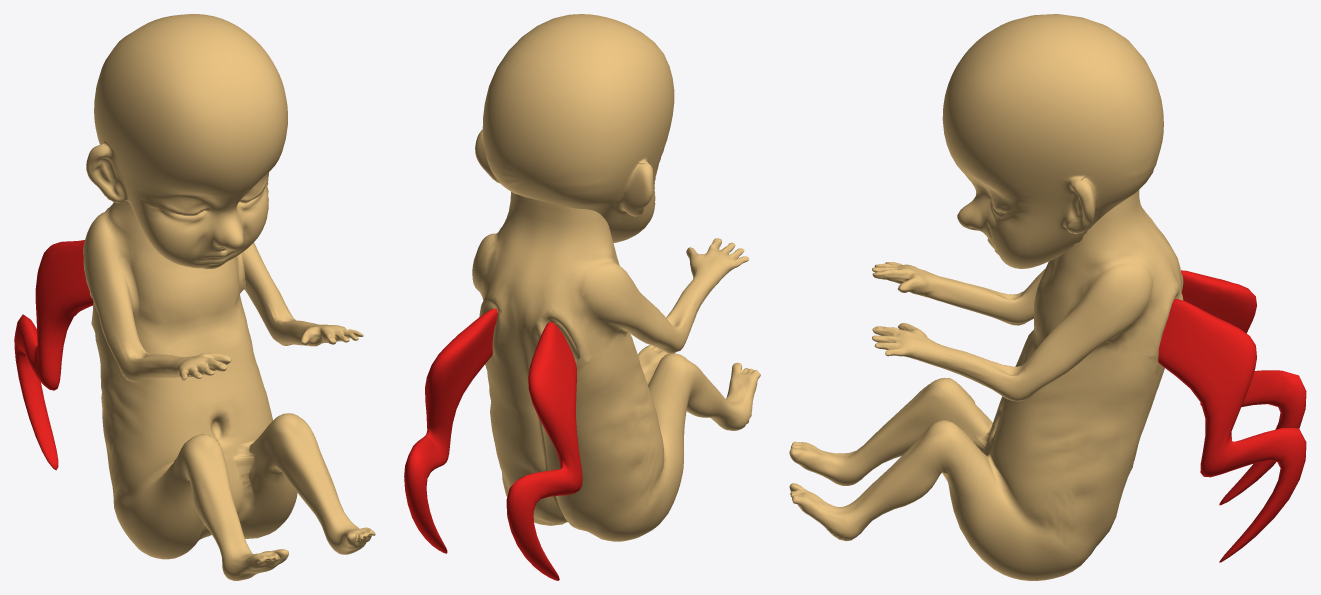
File: embrio 3.fbx
3 renders of one model, left to right at view 1: azimuth 30°, elevation 25°; view 2: azimuth 150°, elevation 25°; view 3: azimuth 270°, elevation 25°, orthographic. The views are drawn at different scales.
Visible parts, largest first — view 1: RetopoFlow.001; view 2: RetopoFlow.001; view 3: RetopoFlow.001.
Part boxes in pixels (box(x1,y1,x2,y2)): RetopoFlow.001: box(14, 14, 375, 580); RetopoFlow.001: box(404, 14, 760, 580); RetopoFlow.001: box(789, 14, 1306, 580).
Bounding box in the file's own units: 177 × 480 × 421.
